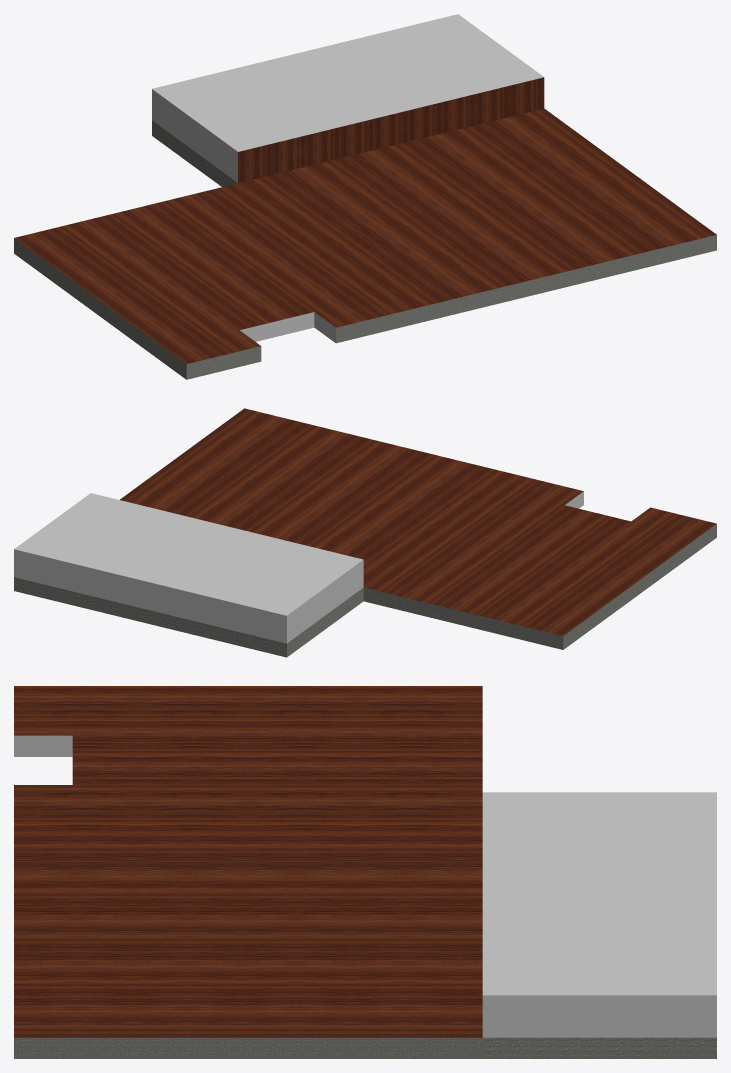
3 views of the same model, one above another, from view 1: azimuth 30°, elevation 25°; view 2: azimuth 150°, elevation 25°; view 3: azimuth 270°, elevation 25° (orthographic). The views are drawn at different scales.
Visible parts, largest first — view 1: base_Cube.068; view 2: base_Cube.068; view 3: base_Cube.068.
Part boxes in pixels (left/top/right/bottom): base_Cube.068: left=14, top=14, right=716, bottom=379; base_Cube.068: left=14, top=408, right=716, bottom=657; base_Cube.068: left=14, top=686, right=716, bottom=1058.
Bounding box in the file's own units: 71 × 6 × 60.
